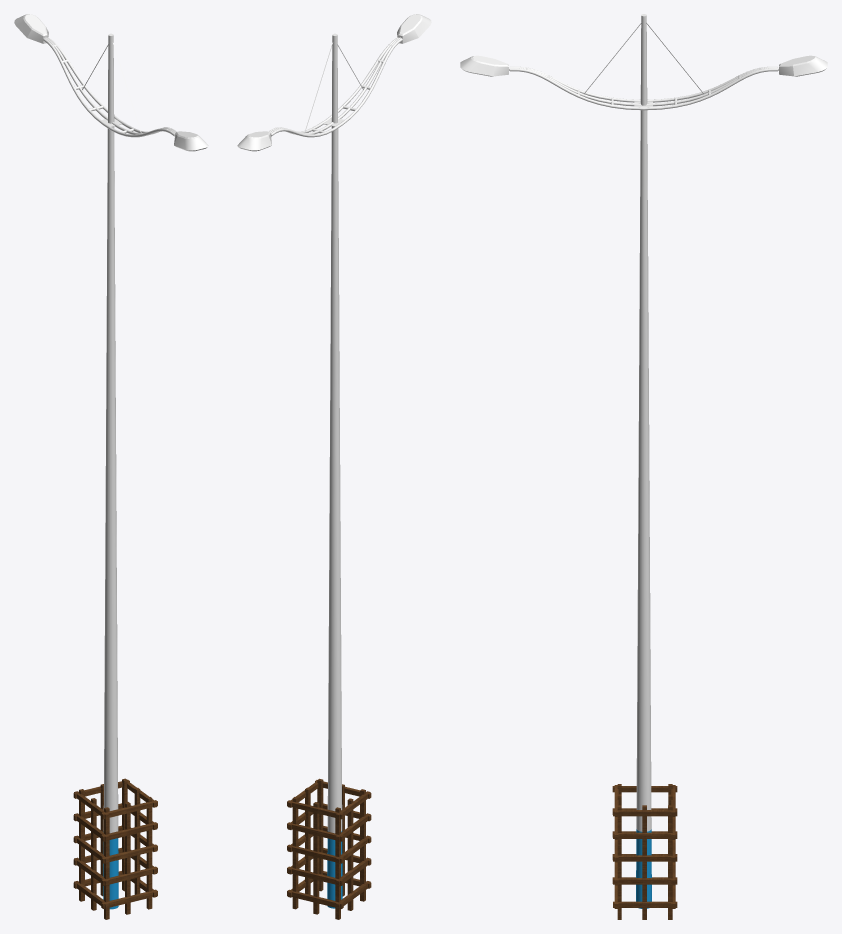
File: light1.gltf
The picture shows the model from 3 angles, left to right: view 1: azimuth 30°, elevation 25°; view 2: azimuth 150°, elevation 25°; view 3: azimuth 270°, elevation 25°; orthographic projection. The views are drawn at different scales.
Visible parts, largest first — view 1: 路灯01; view 2: 路灯01; view 3: 路灯01.
Boxes of the visible parts, x1,y1,x2,y2 form: 路灯01: (14,14,208,919); 路灯01: (237,14,431,919); 路灯01: (460,14,827,919).
Bounding box in the file's own units: 0.7934 × 12.09 × 4.52.
4 materials, 1 textured.
